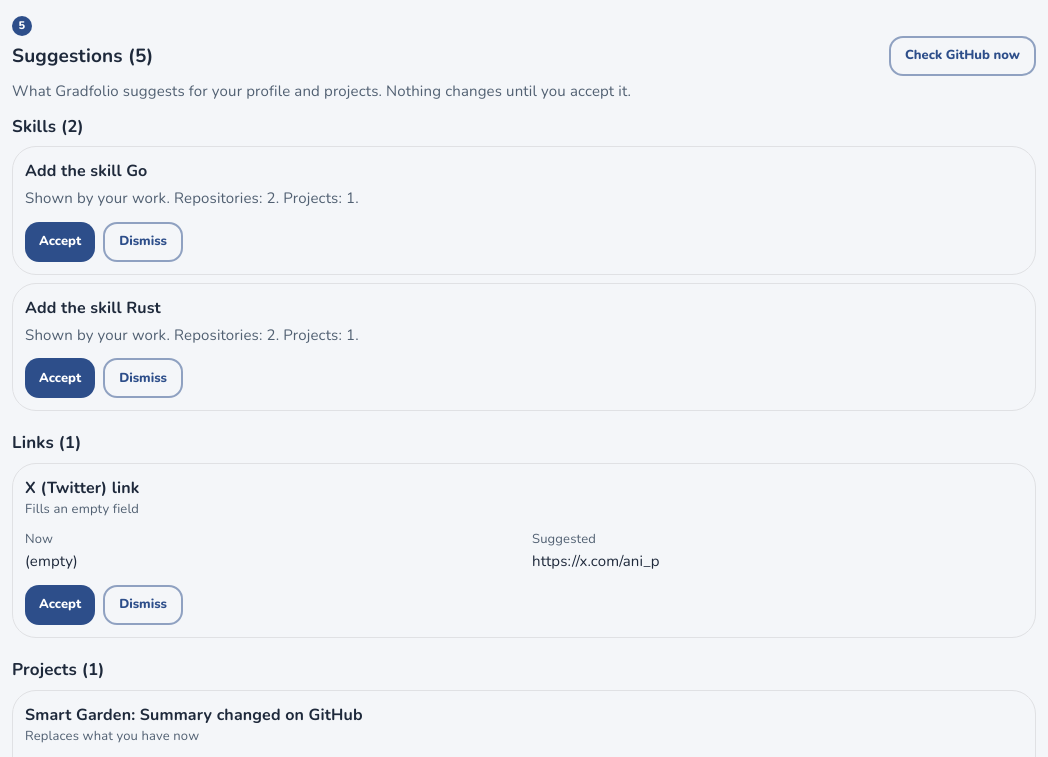
Test case: the inbox › 'Check GitHub now' says what the API said, throttled included, and reads the list again
This screenshot has width=1048, height=757.
Expected: the heading "Suggestions (5)" is shown, 12,44 -> 154,68
Click the button "Check GitHub now" at (962,56), box 889,36 -> 1036,76
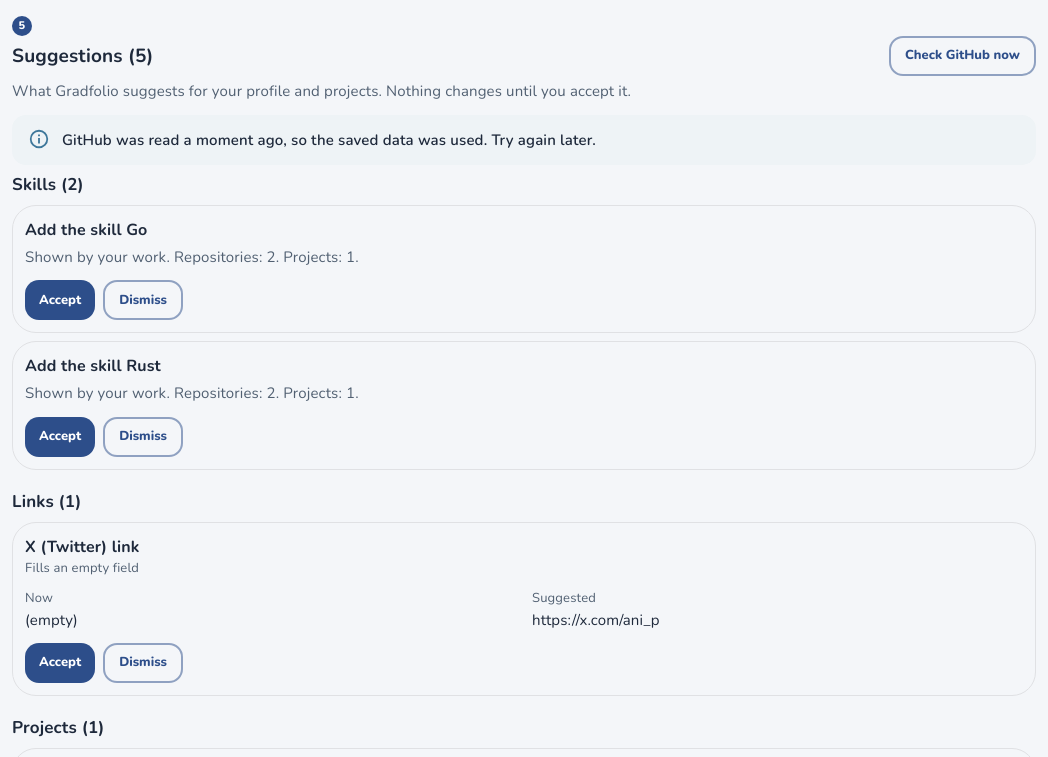
Now the message shows "GitHub was read a moment ago", box 62,130 -> 596,150
